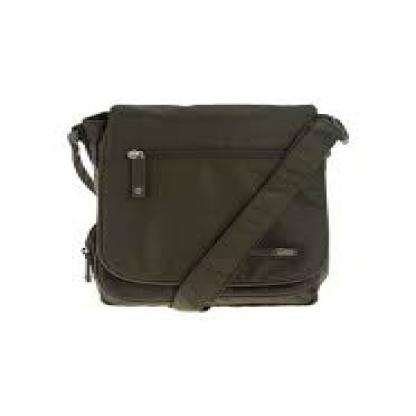morral: (44, 90, 374, 324)
